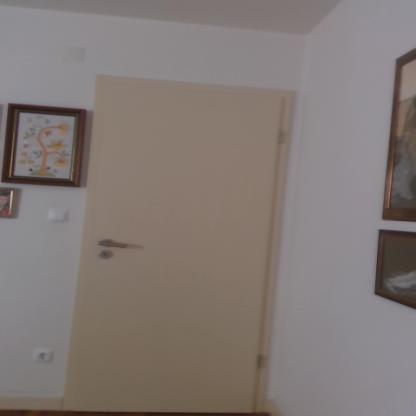closed: (79, 75, 303, 408)
